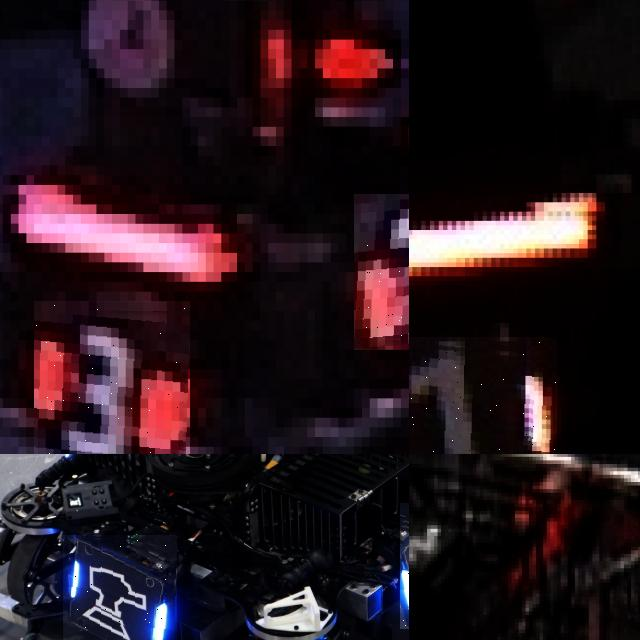Bs: (63, 534, 176, 640)
R1: (409, 336, 557, 454)
R3: (34, 301, 190, 454), (354, 194, 409, 349)
